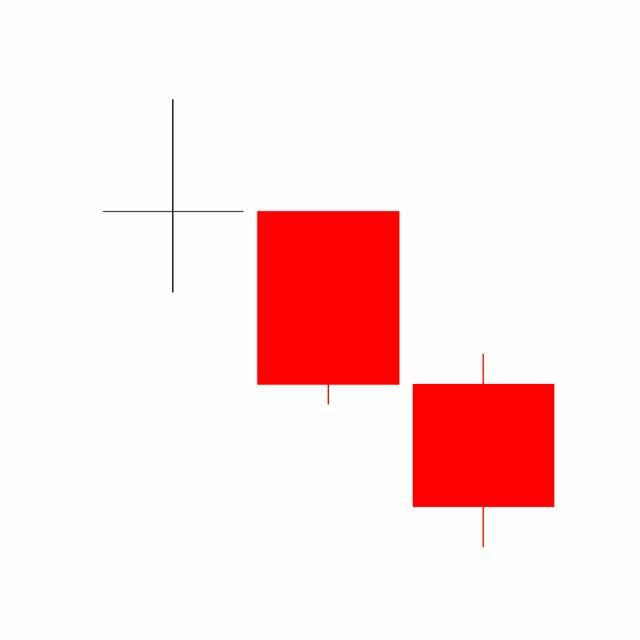Marubozu: (250, 210, 407, 408)
